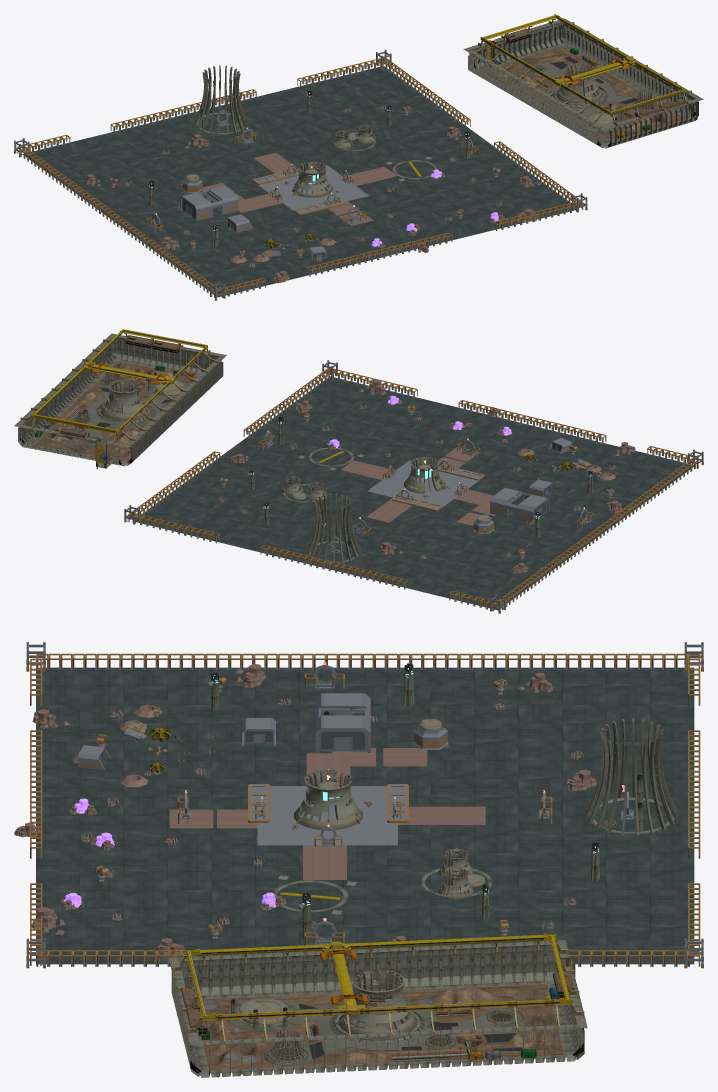
File: world.glb
3 renders of one model, top to bottom at view 1: azimuth 30°, elevation 25°; view 2: azimuth 150°, elevation 25°; view 3: azimuth 270°, elevation 25°, orthographic. The views are drawn at different scales.
Visible parts, largest first — view 1: ColossalDockingGate__mesh_51_Mesh_tall_arch_subset_0, mesh_108_Mesh_main_floor_subset_1, mesh_108_Mesh_main_floor_subset_6, OutpostCommandCenter__Mesh_hangar_largeA_1, CentralReactor__mesh_155_Mesh_cool_tower_fins_subset_0, mesh_108_Mesh_main_floor_subset_5, mesh_108_Mesh_main_floor_subset_2, mesh_108_Mesh_main_floor_subset_4, mesh_155_Mesh_cool_tower_fins_subset_0, OutpostCommandCenter__Mesh_hangar_largeA, mesh_155_Mesh_cool_tower_fins_subset_1; view 2: ColossalDockingGate__mesh_51_Mesh_tall_arch_subset_0, mesh_108_Mesh_main_floor_subset_1, mesh_155_Mesh_cool_tower_fins_subset_0, mesh_108_Mesh_main_floor_subset_6, OutpostCommandCenter__Mesh_hangar_largeA_1, mesh_108_Mesh_main_floor_subset_5, mesh_108_Mesh_main_floor_subset_2, CentralReactor__mesh_155_Mesh_cool_tower_fins_subset_0, OutpostCommandCenter__Mesh_hangar_largeA, mesh_108_Mesh_main_floor_subset_4; view 3: Ceiling (×147), ColossalDockingGate__mesh_51_Mesh_tall_arch_subset_0, mesh_108_Mesh_main_floor_subset_1, mesh_108_Mesh_main_floor_subset_5, mesh_108_Mesh_main_floor_subset_6, mesh_155_Mesh_cool_tower_fins_subset_0, Mesh_terrain_roadStraight (×3), CentralReactor__mesh_155_Mesh_cool_tower_fins_subset_0, mesh_108_Mesh_main_floor_subset_2, mesh_108_Mesh_main_floor_subset_4, mesh_105_Mesh_main_track_a_subset_5, mesh_104_Mesh_main_track_a01_subset_4 (+21 smaller).
Part boxes in pixels (box(x1,y1,x2,y2)): ColossalDockingGate__mesh_51_Mesh_tall_arch_subset_0: box(194, 65, 249, 135); mesh_108_Mesh_main_floor_subset_1: box(481, 46, 685, 139); mesh_108_Mesh_main_floor_subset_6: box(489, 47, 574, 78); OutpostCommandCenter__Mesh_hangar_largeA_1: box(180, 186, 238, 219); CentralReactor__mesh_155_Mesh_cool_tower_fins_subset_0: box(292, 162, 332, 197); mesh_108_Mesh_main_floor_subset_5: box(507, 74, 669, 131); mesh_108_Mesh_main_floor_subset_2: box(522, 63, 658, 132); mesh_108_Mesh_main_floor_subset_4: box(537, 56, 636, 116); mesh_155_Mesh_cool_tower_fins_subset_0: box(556, 63, 603, 104); OutpostCommandCenter__Mesh_hangar_largeA: box(180, 185, 238, 221); mesh_155_Mesh_cool_tower_fins_subset_1: box(554, 64, 600, 103); ColossalDockingGate__mesh_51_Mesh_tall_arch_subset_0: box(305, 493, 361, 563); mesh_108_Mesh_main_floor_subset_1: box(31, 361, 197, 461); mesh_155_Mesh_cool_tower_fins_subset_0: box(100, 379, 148, 420); mesh_108_Mesh_main_floor_subset_6: box(35, 434, 128, 458); OutpostCommandCenter__Mesh_hangar_largeA_1: box(490, 488, 549, 521); mesh_108_Mesh_main_floor_subset_5: box(74, 364, 173, 444); mesh_108_Mesh_main_floor_subset_2: box(73, 378, 191, 446); CentralReactor__mesh_155_Mesh_cool_tower_fins_subset_0: box(404, 457, 445, 493); OutpostCommandCenter__Mesh_hangar_largeA: box(490, 488, 549, 522); mesh_108_Mesh_main_floor_subset_4: box(48, 389, 163, 442); Ceiling (×147): box(36, 667, 694, 964); ColossalDockingGate__mesh_51_Mesh_tall_arch_subset_0: box(585, 718, 678, 835); mesh_108_Mesh_main_floor_subset_1: box(201, 984, 564, 1070); mesh_108_Mesh_main_floor_subset_5: box(208, 987, 496, 1074); mesh_108_Mesh_main_floor_subset_6: box(499, 989, 563, 1055); mesh_155_Mesh_cool_tower_fins_subset_0: box(338, 970, 417, 1039); Mesh_terrain_roadStraight (×3): box(169, 748, 485, 828); CentralReactor__mesh_155_Mesh_cool_tower_fins_subset_0: box(294, 770, 362, 830); mesh_108_Mesh_main_floor_subset_2: box(225, 998, 524, 1065); mesh_108_Mesh_main_floor_subset_4: box(306, 1005, 523, 1056); mesh_105_Mesh_main_track_a_subset_5: box(216, 1000, 559, 1020); mesh_104_Mesh_main_track_a01_subset_4: box(200, 935, 543, 955).
Bounding box in the file's own units: 285 × 25.92 × 189.
Materials: 324 (98 with a texture image).
